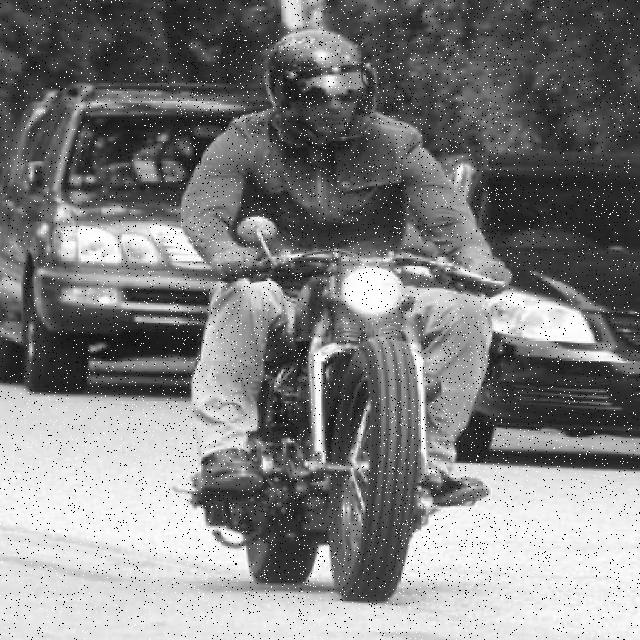Motorbike: (171, 30, 512, 604)
